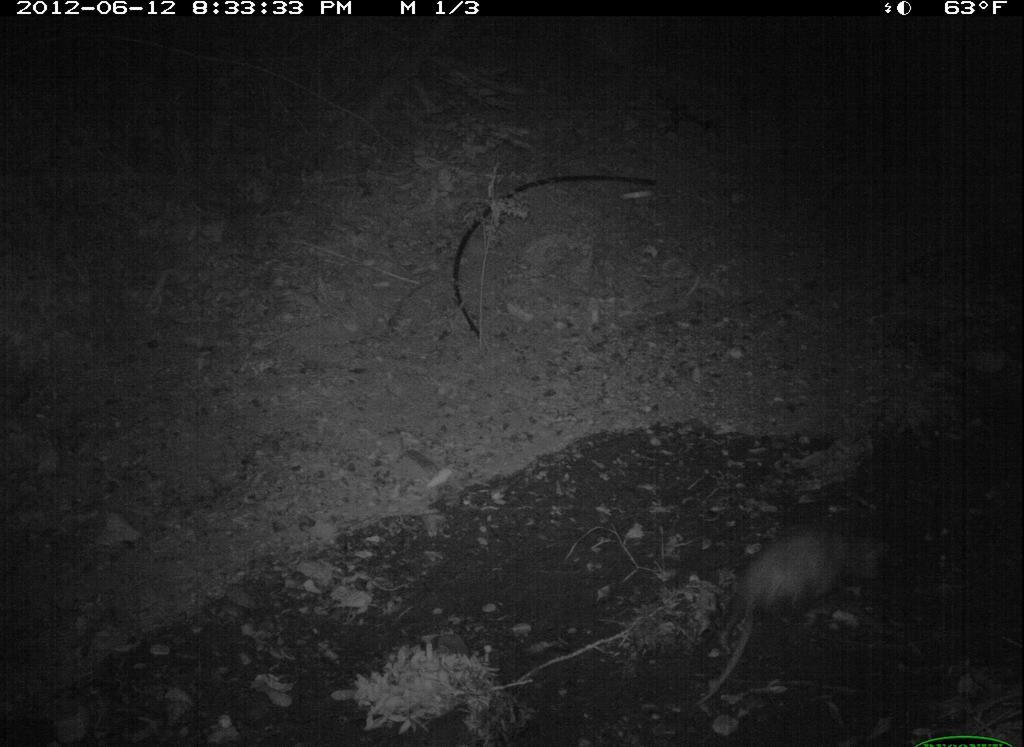opossum: (705, 518, 891, 655)
